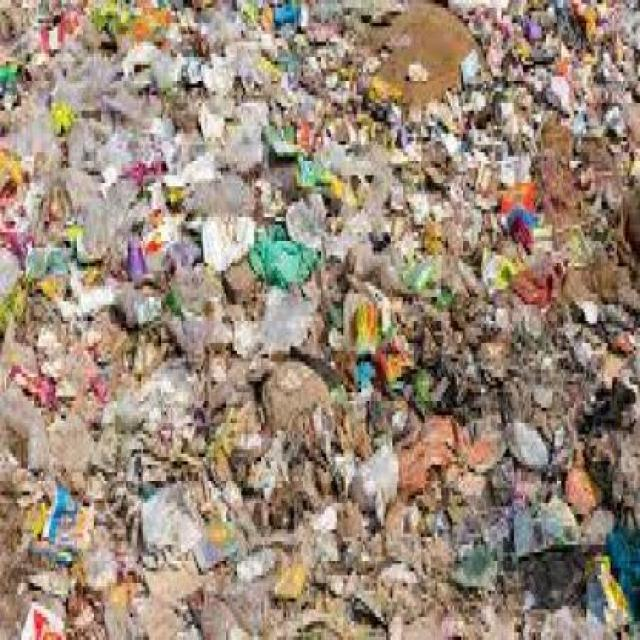garbage: (6, 23, 616, 602)
